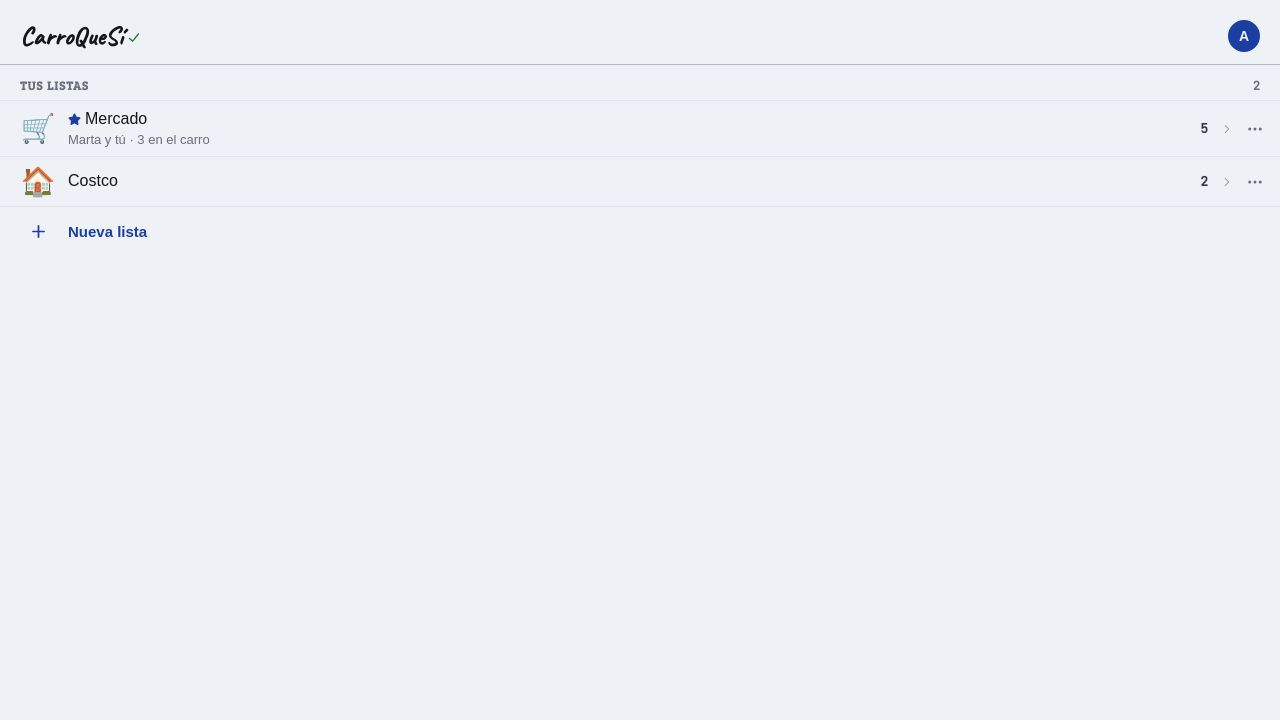
DashboardScreen — list management › confirming rename updates the list name in the dashboard
The width and height of the screenshot is (1280, 720).
expect the text "Mercado" is shown: met, box [68,110,147,127]
Click the 1st button named "opciones". click: (1255, 128)
box: [1233,106,1277,150]
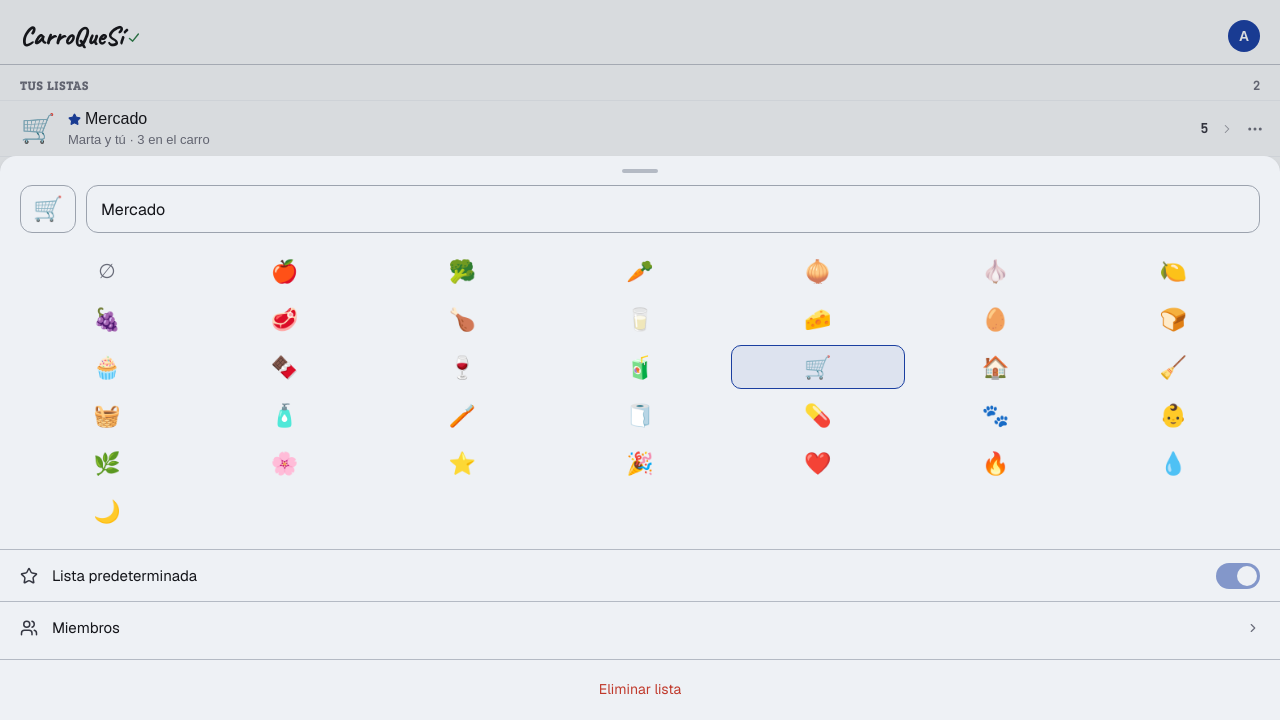
Replace the text in the field named "Nombre de la lista" with "Mercado Nuevo". click: (673, 209)
box: [86,185,1260,233]
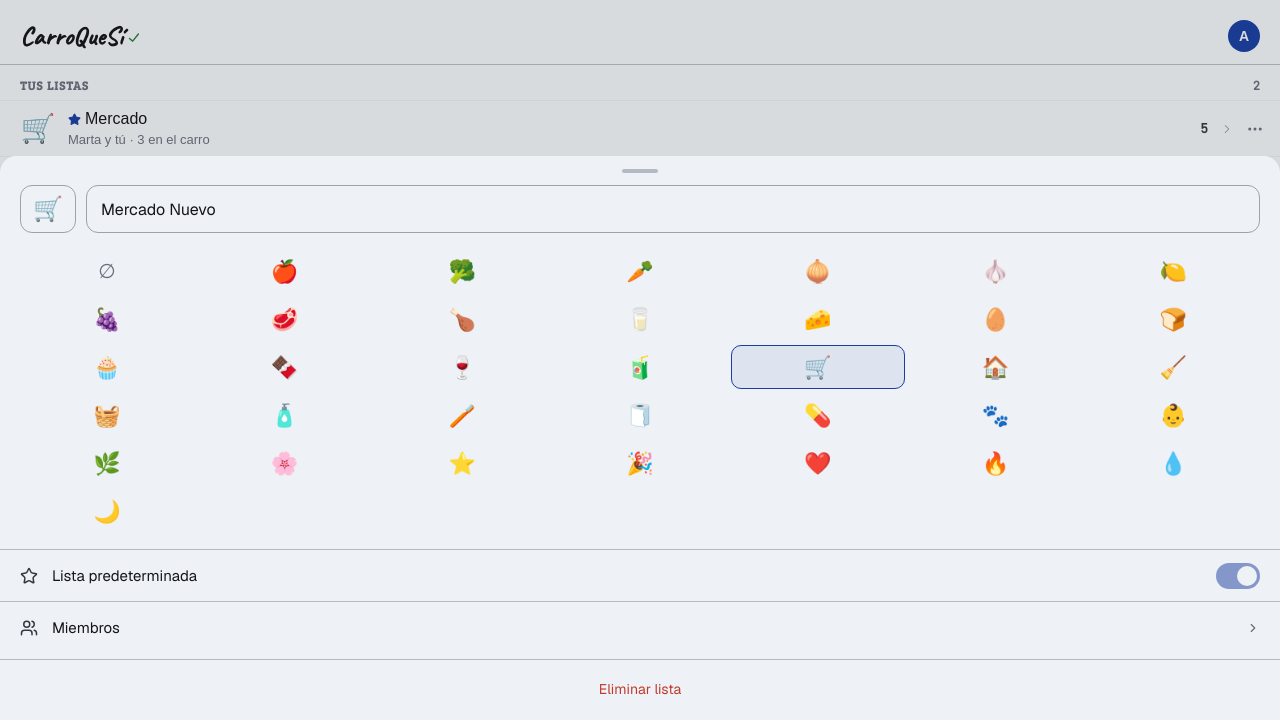
Leave the field named "Nombre de la lista", box [86,185,1260,233]
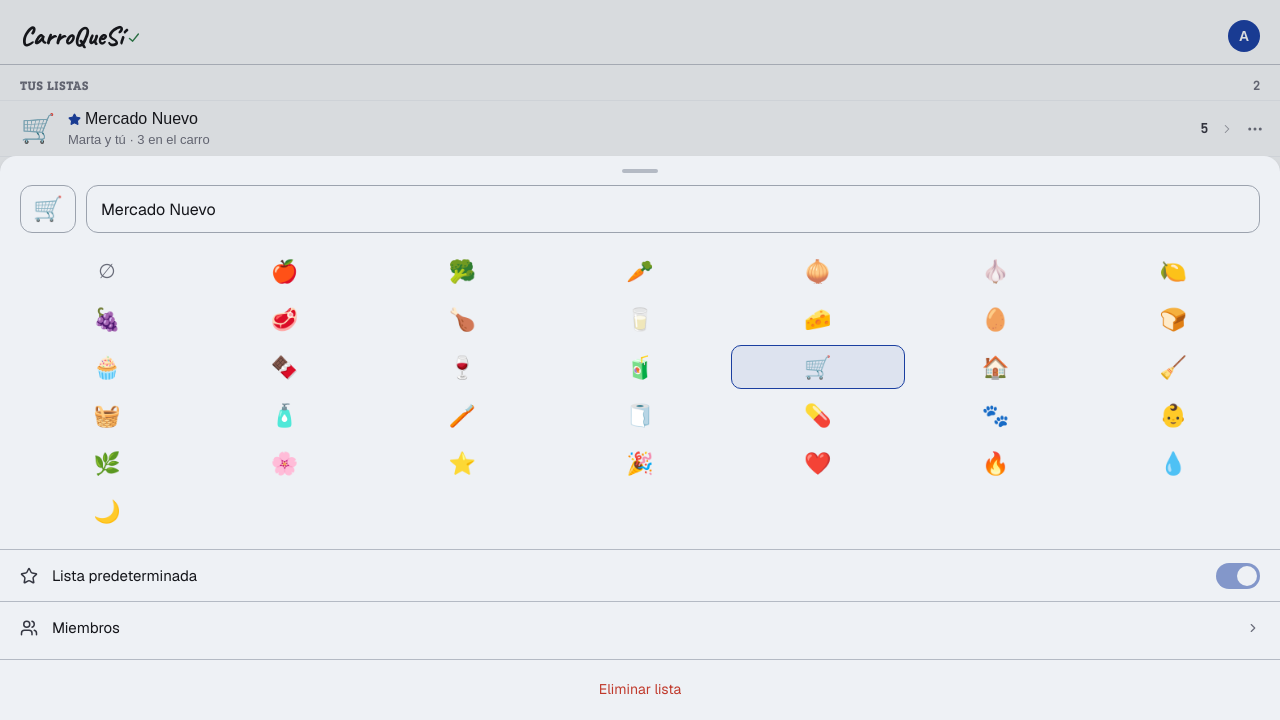
expect the text "Mercado Nuevo" is shown: met, box [68,110,198,127]
